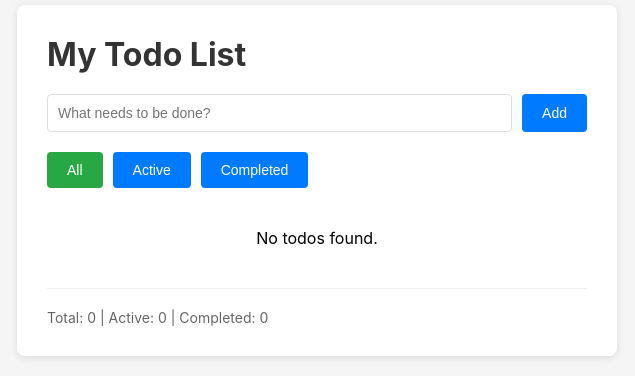
it: App › can delete a todo
Type "Test todo" into the field with placeholder "What needs to be done?" at [280, 113], box [47,94,512,132]
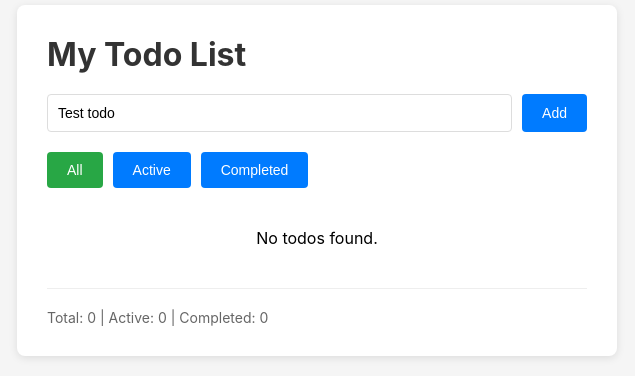
Click the button "Add" at [555, 113], box [522,94,587,132]
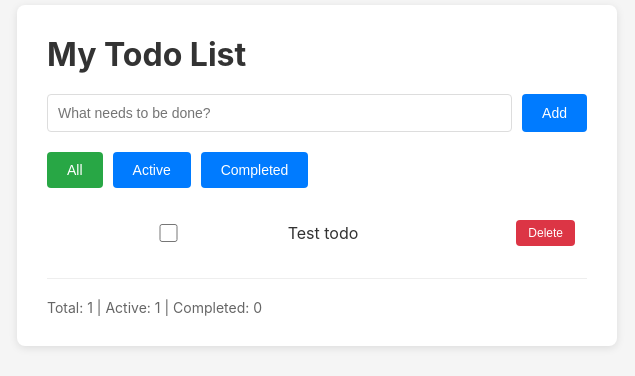
Click the button "Delete" at [546, 233], box [516,220,575,246]
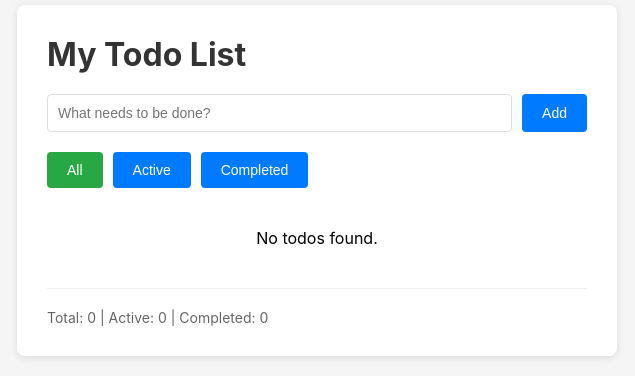
Now the text "Test todo" is gone
